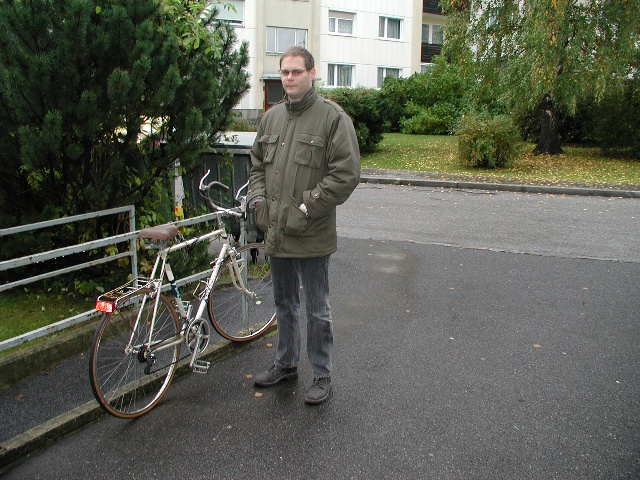person: (248, 44, 359, 407)
